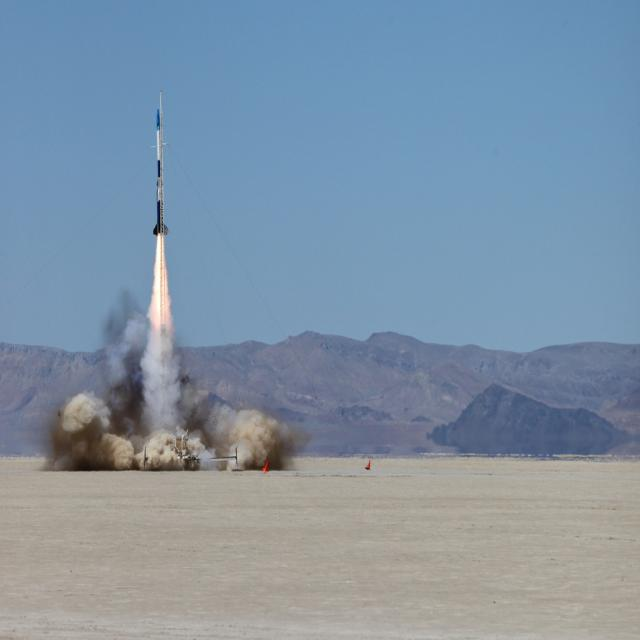rocket: (144, 84, 170, 362)
